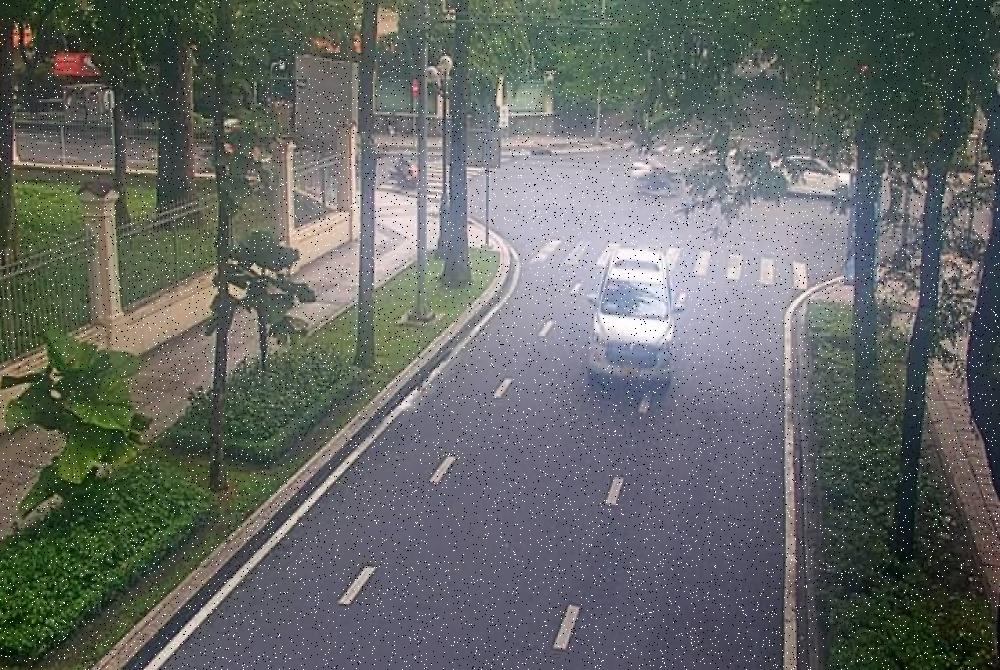car: (586, 246, 680, 390), (764, 155, 860, 195)
